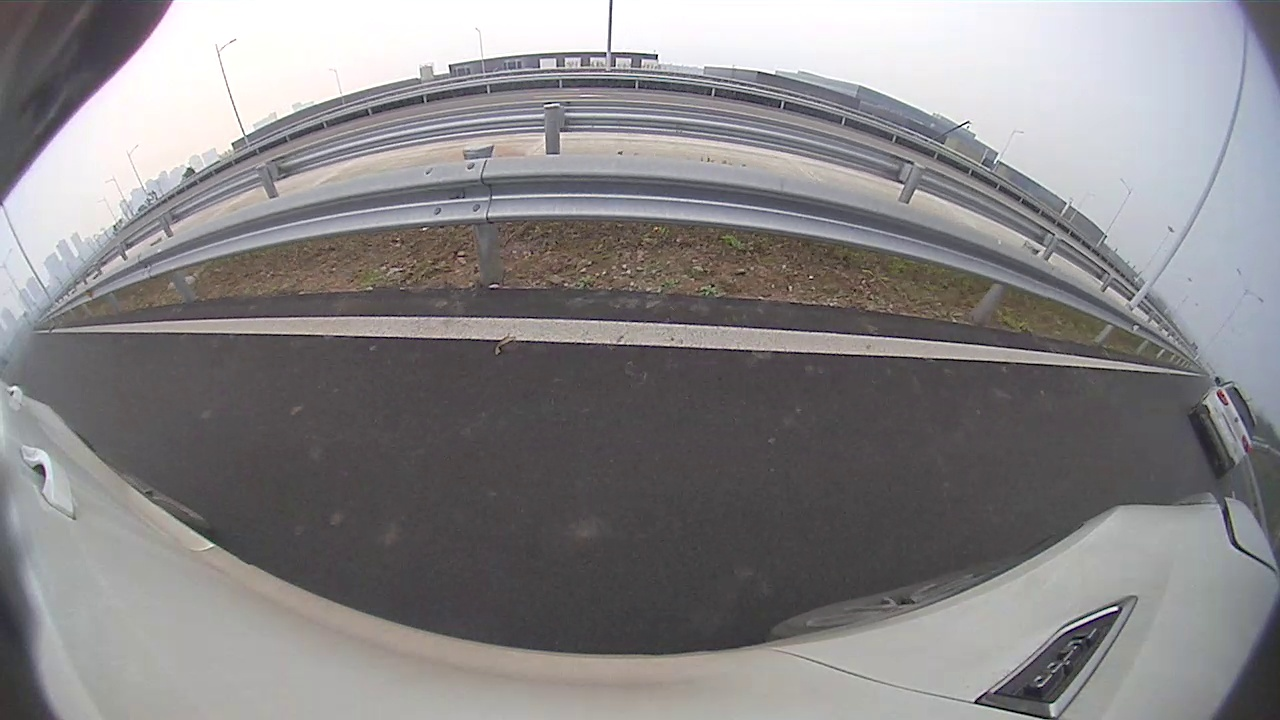car: (1187, 376, 1257, 479)
